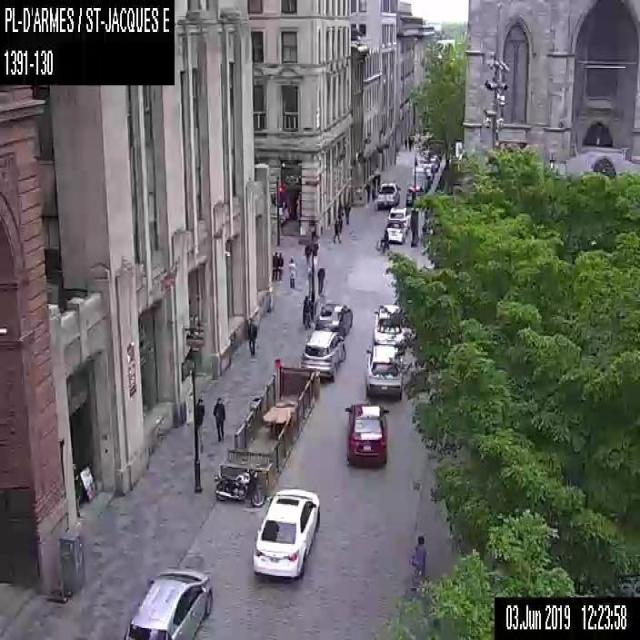pedestrian: (408, 532, 424, 591), (194, 396, 206, 451), (213, 396, 225, 440), (246, 317, 258, 357), (302, 294, 312, 326), (287, 256, 295, 287), (316, 266, 324, 294), (332, 216, 340, 243), (271, 250, 278, 280), (277, 250, 283, 281), (382, 228, 389, 250), (364, 180, 370, 200), (344, 200, 349, 224), (403, 134, 407, 148)
vehicle: (122, 566, 212, 638), (252, 488, 320, 577), (345, 402, 388, 466), (299, 329, 345, 380), (363, 343, 403, 398), (213, 465, 264, 506), (373, 303, 409, 351), (314, 302, 352, 336), (376, 180, 400, 209), (387, 205, 410, 232), (411, 166, 430, 192), (384, 220, 405, 243), (405, 185, 423, 206), (426, 167, 432, 183)
